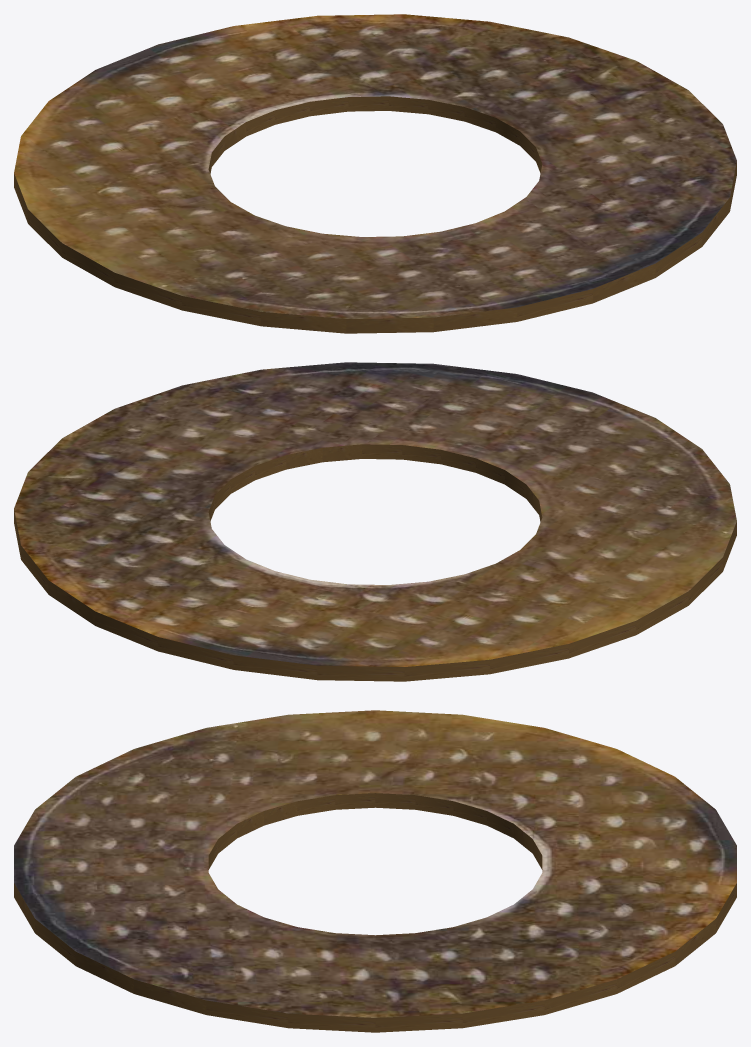
File: 汉代玉璧.FBX
The picture shows the model from 3 angles, top to bottom: view 1: azimuth 30°, elevation 25°; view 2: azimuth 150°, elevation 25°; view 3: azimuth 270°, elevation 25°; orthographic projection.
Visible parts, largest first — view 1: Cylinder001; view 2: Cylinder001; view 3: Cylinder001.
Boxes of the visible parts, left/top/right/bottom form: Cylinder001: left=14, top=14, right=736, bottom=333; Cylinder001: left=14, top=362, right=736, bottom=681; Cylinder001: left=14, top=710, right=736, bottom=1032.
Bounding box in the file's own units: 59.33 × 1.32 × 58.89.
2 materials, 2 textured.
